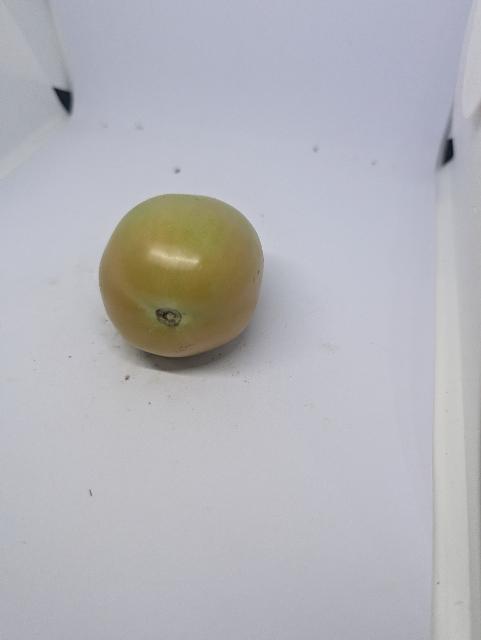breaker: (95, 189, 265, 362)
